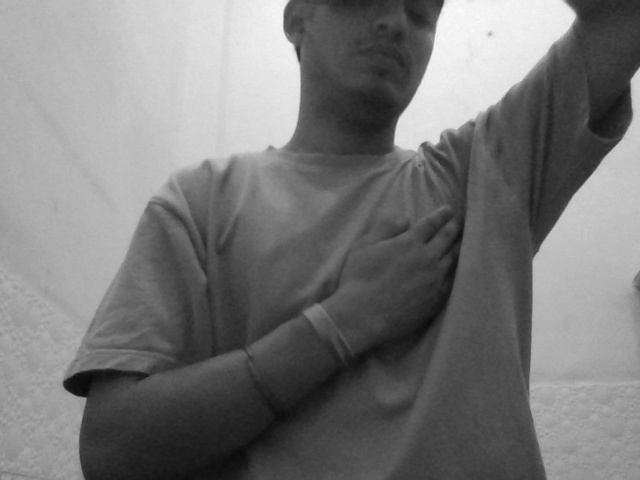Sorry: (304, 206, 528, 346)
